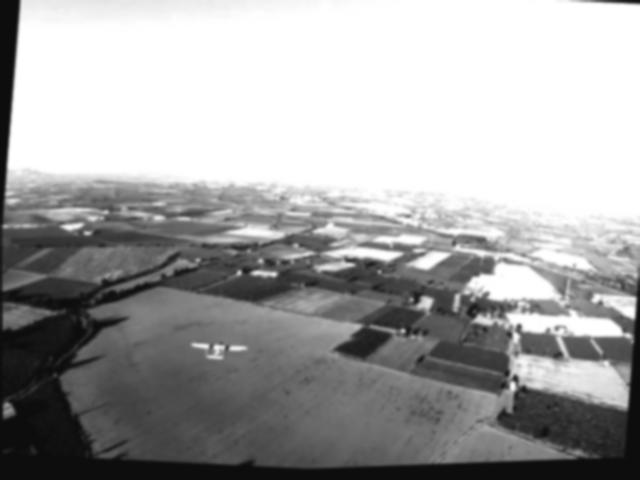hedef: (183, 330, 253, 371)
